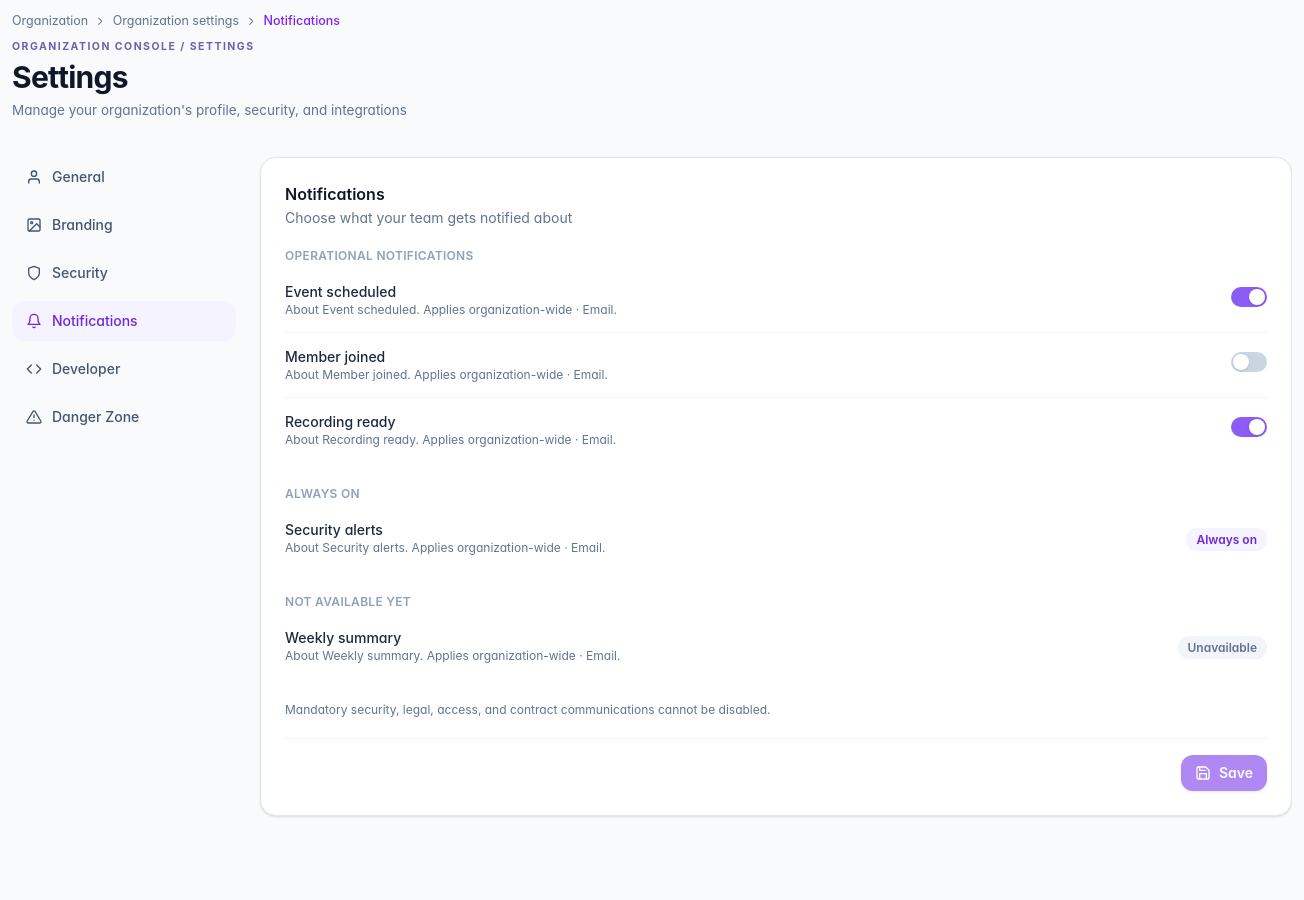
Test: the panel settles after saving › clears the unsaved state instead of staying dirty forever
The width and height of the screenshot is (1304, 900).
Click the 1st switch: (1249, 297) x1=1231 y1=287 x2=1267 y2=307
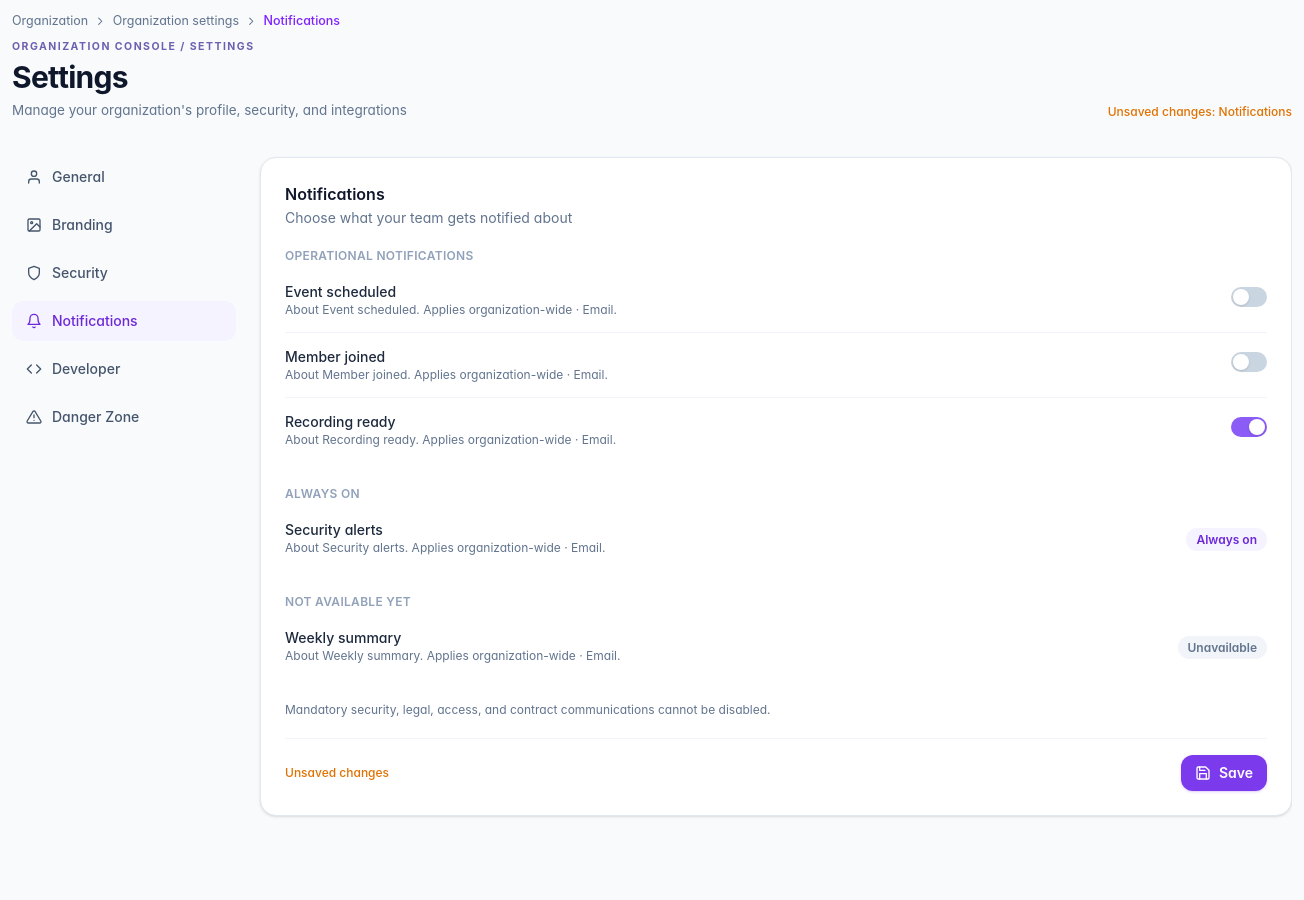
Click the button with aria-label "Save notifications": (1224, 773) x1=1181 y1=755 x2=1267 y2=791
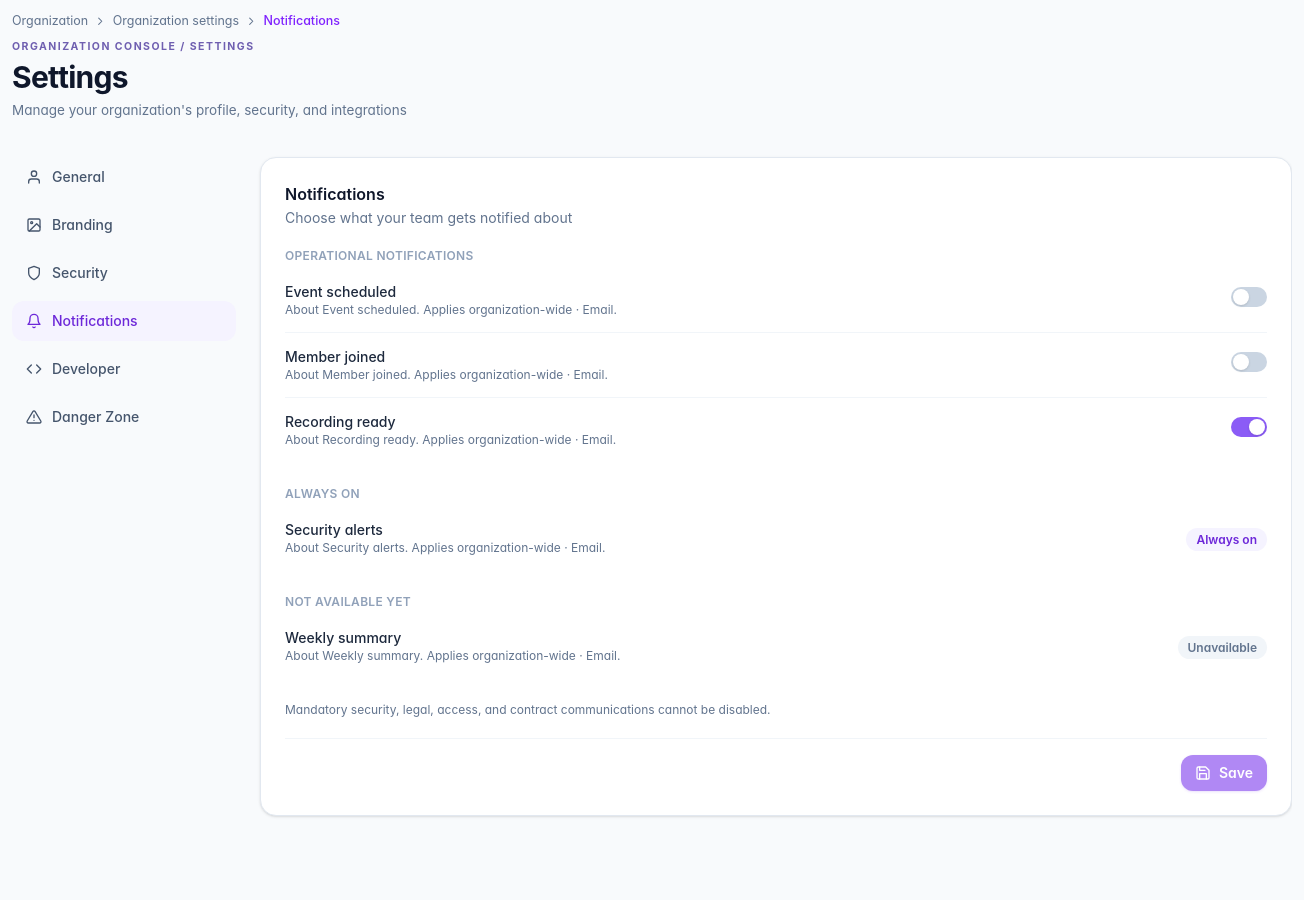
Check: the button with aria-label "Save notifications" is disabled, box x1=1181 y1=755 x2=1267 y2=791
